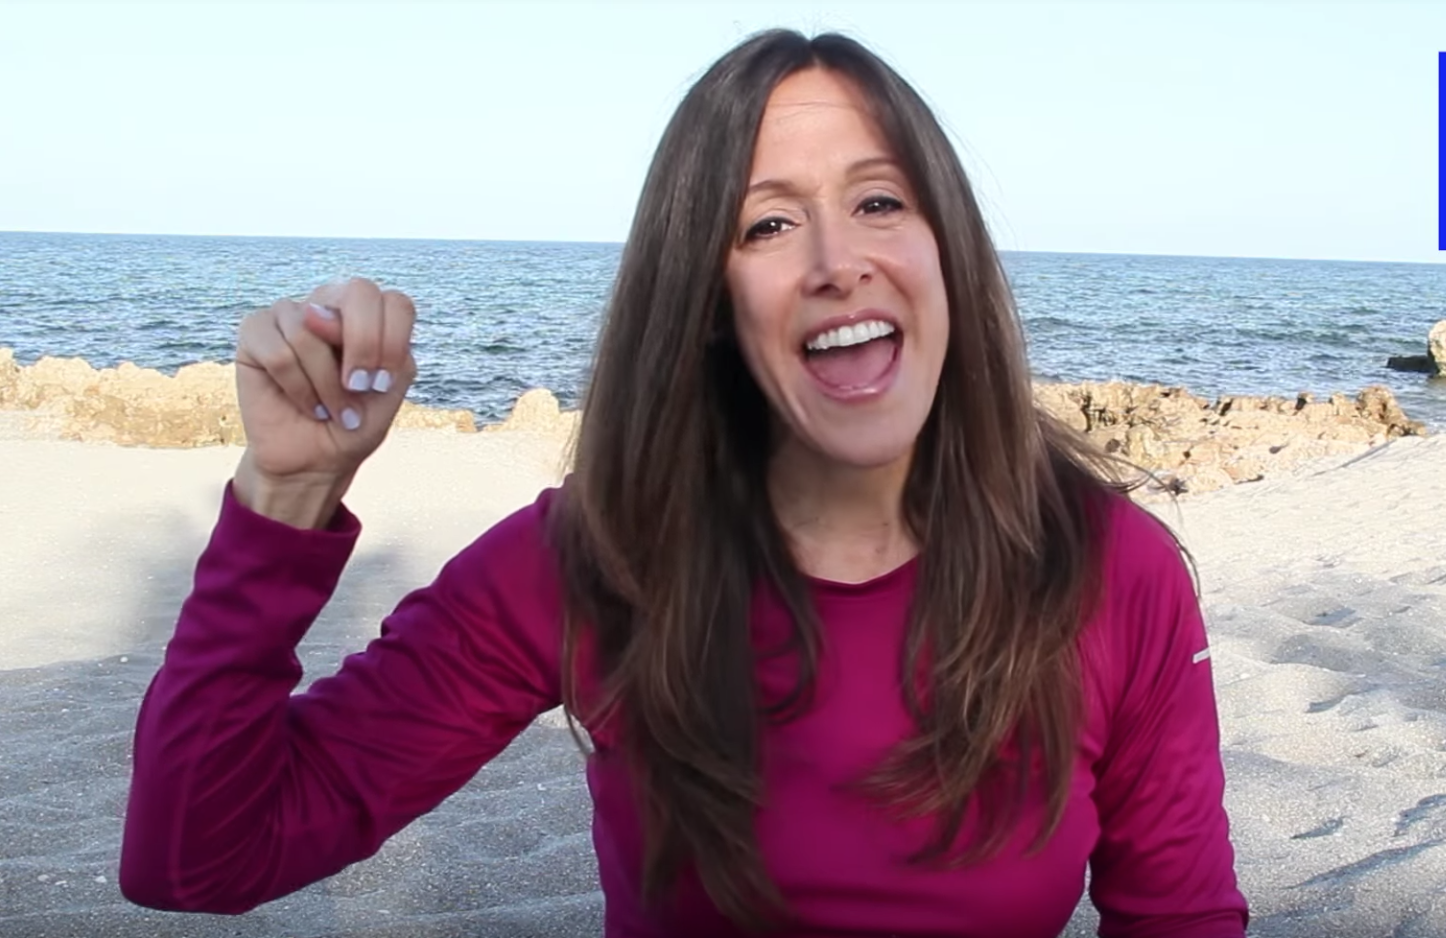n: (219, 267, 435, 582)
